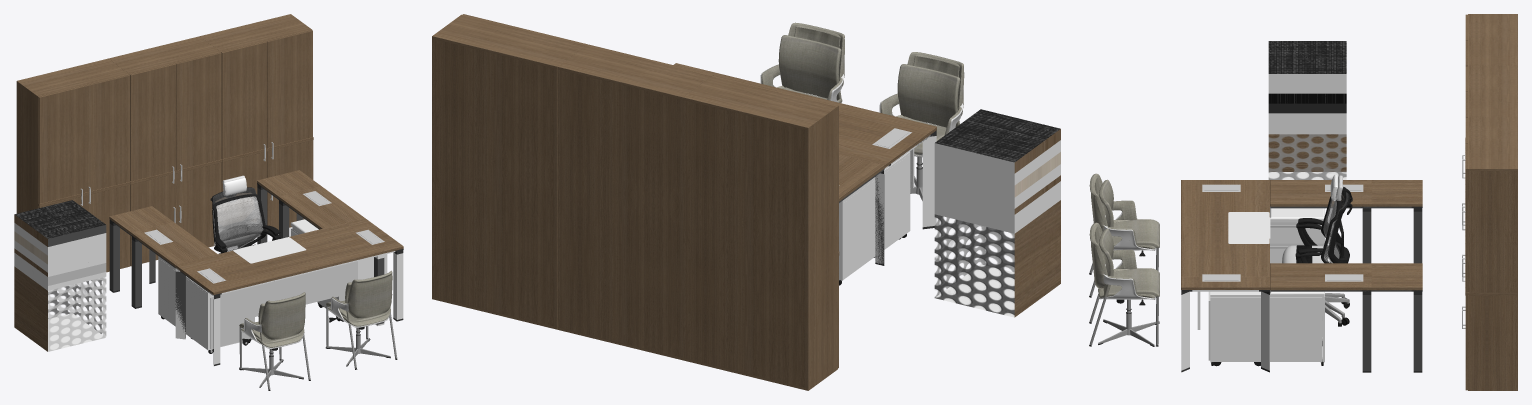
Rendered from GERENCIAL.glb.
3 views of the same model, side by side, from view 1: azimuth 30°, elevation 25°; view 2: azimuth 150°, elevation 25°; view 3: azimuth 270°, elevation 25° (orthographic). The views are drawn at different scales.
Parts seen in each view (by area): view 1: SketchUp.061, SketchUp.057, SketchUp.049, Cube, SketchUp.144, SketchUp.507, EQTF180, SketchUp.026, SketchUp.066, SketchUp.250, SketchUp.059, SketchUp.064 (+22 smaller); view 2: SketchUp.059, SketchUp.064, SketchUp.066, Cube, SketchUp.061, SketchUp.026, SketchUp.144, SketchUp.406, SketchUp.395, SketchUp.507, SketchUp.014, SketchUp.241 (+1 smaller); view 3: Cube, SketchUp.064, SketchUp.161, SketchUp.144, SketchUp.038, SketchUp.059, SketchUp.507, SketchUp.066, SketchUp.039, SketchUp.241, SketchUp.050, SketchUp.026 (+20 smaller).
Part boxes in pixels (x1,y1,x2,y2): SketchUp.061: (17, 74, 130, 272); SketchUp.057: (129, 52, 221, 266); SketchUp.049: (213, 29, 312, 230); Cube: (14, 200, 106, 351); SketchUp.144: (175, 223, 384, 294); SketchUp.507: (241, 270, 392, 347); EQTF180: (220, 261, 357, 325); SketchUp.026: (158, 256, 242, 350); SketchUp.066: (16, 58, 128, 213); SketchUp.250: (212, 196, 263, 250); SketchUp.059: (108, 36, 220, 73); SketchUp.064: (200, 14, 311, 51); SketchUp.059: (557, 45, 711, 360); SketchUp.064: (432, 15, 585, 329); SketchUp.066: (683, 76, 836, 390); Cube: (934, 109, 1060, 317); SketchUp.061: (712, 75, 838, 390); SketchUp.026: (839, 151, 910, 280); SketchUp.144: (700, 69, 936, 168); SketchUp.406: (778, 35, 841, 100); SketchUp.395: (897, 64, 960, 127); SketchUp.507: (761, 22, 964, 155); SketchUp.014: (875, 135, 936, 263); SketchUp.241: (839, 154, 883, 198); Cube: (1268, 41, 1346, 179); SketchUp.064: (1469, 117, 1517, 390); SketchUp.161: (1210, 290, 1324, 361); SketchUp.144: (1181, 180, 1269, 276); SketchUp.038: (1468, 295, 1516, 390); SketchUp.059: (1469, 65, 1517, 117); SketchUp.507: (1089, 173, 1155, 298); SketchUp.066: (1469, 14, 1517, 65); SketchUp.039: (1270, 263, 1371, 289); SketchUp.241: (1270, 180, 1371, 206); SketchUp.050: (1270, 263, 1422, 290); SketchUp.026: (1270, 207, 1324, 263).
Size of the model in its own units: 3.69 by 1.93 by 3.37.
30 materials, 8 textured.
